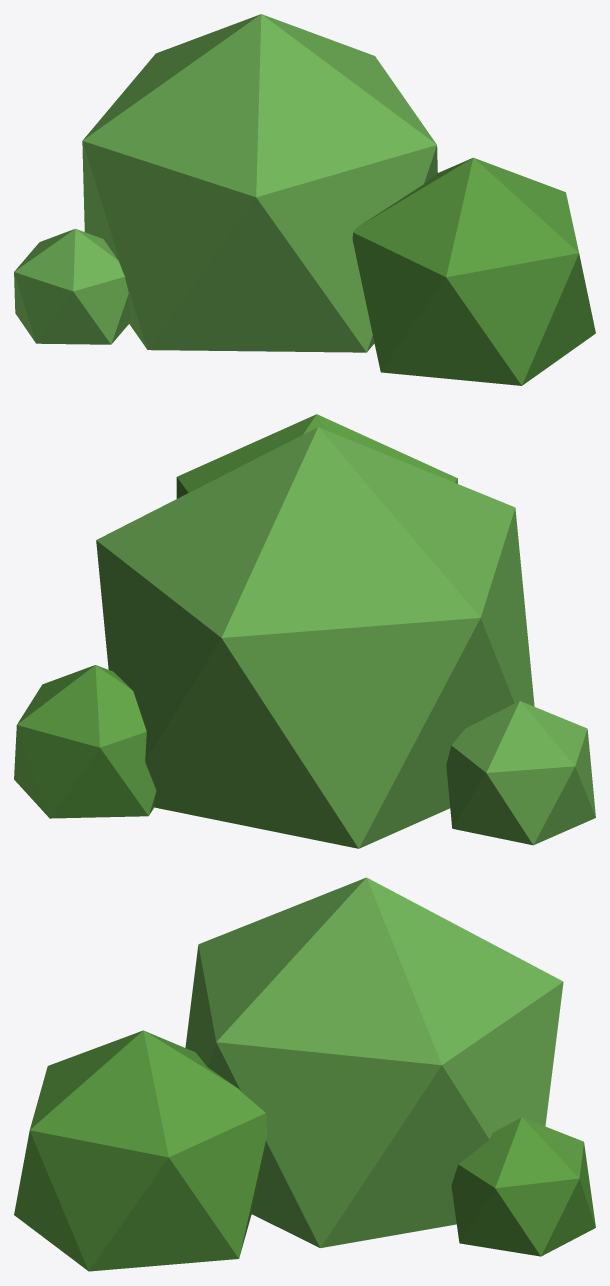
Rendered from bush_small.glb.
The picture shows the model from 3 angles, top to bottom: view 1: azimuth 30°, elevation 25°; view 2: azimuth 150°, elevation 25°; view 3: azimuth 270°, elevation 25°; orthographic projection. The views are drawn at different scales.
Parts seen in each view (by area): view 1: Icosphere.063, Icosphere.064, Icosphere.065; view 2: Icosphere.063, Icosphere.066, Icosphere.065, Icosphere.064; view 3: Icosphere.063, Icosphere.064, Icosphere.066.
Part boxes in pixels (x1,y1,x2,y2): Icosphere.063: (82, 14, 437, 352); Icosphere.064: (352, 157, 595, 385); Icosphere.065: (14, 228, 129, 344); Icosphere.063: (96, 427, 534, 848); Icosphere.066: (14, 665, 156, 818); Icosphere.065: (446, 701, 595, 845); Icosphere.064: (176, 414, 457, 498); Icosphere.063: (185, 877, 563, 1247); Icosphere.064: (14, 1030, 267, 1271); Icosphere.066: (451, 1117, 595, 1256).
Bounding box in the file's own units: 2.45 × 1.45 × 2.64.
